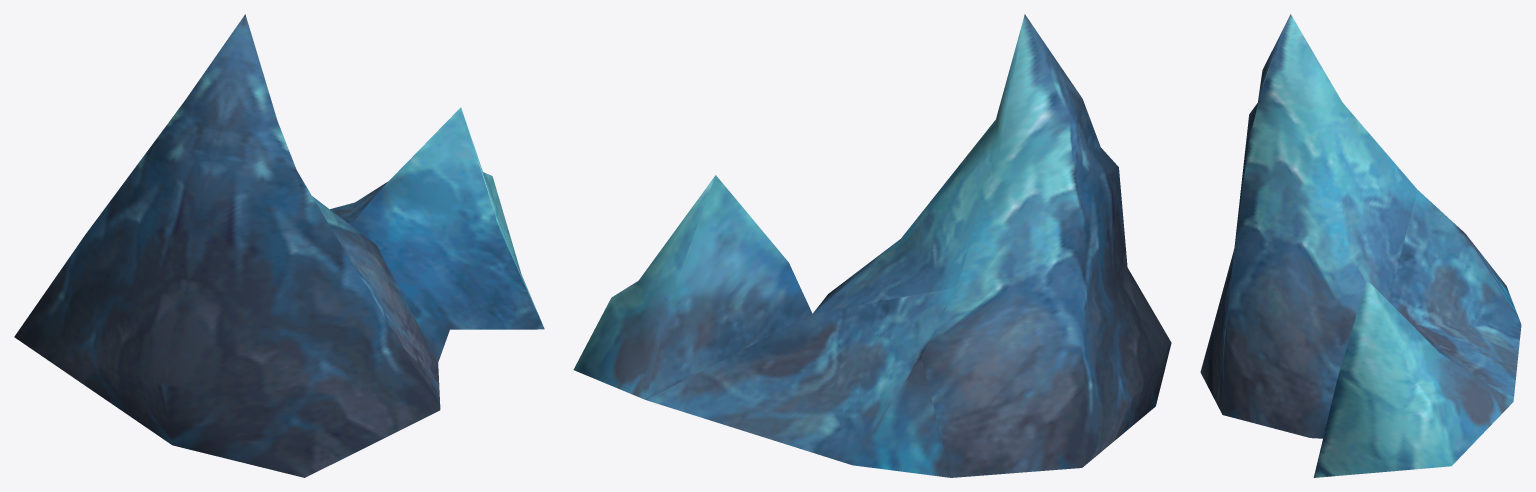
File: bs_binshan_20.FBX
3 renders of one model, left to right at view 1: azimuth 30°, elevation 25°; view 2: azimuth 150°, elevation 25°; view 3: azimuth 270°, elevation 25°, orthographic. The views are drawn at different scales.
Parts seen in each view (by area): view 1: bs_binshan_20; view 2: bs_binshan_20; view 3: bs_binshan_20.
Boxes of the visible parts, x1,y1,x2,y2 form: bs_binshan_20: [14, 14, 544, 477]; bs_binshan_20: [573, 14, 1171, 477]; bs_binshan_20: [1200, 14, 1521, 477].
Bounding box in the file's own units: 2133 × 1749 × 1429.
